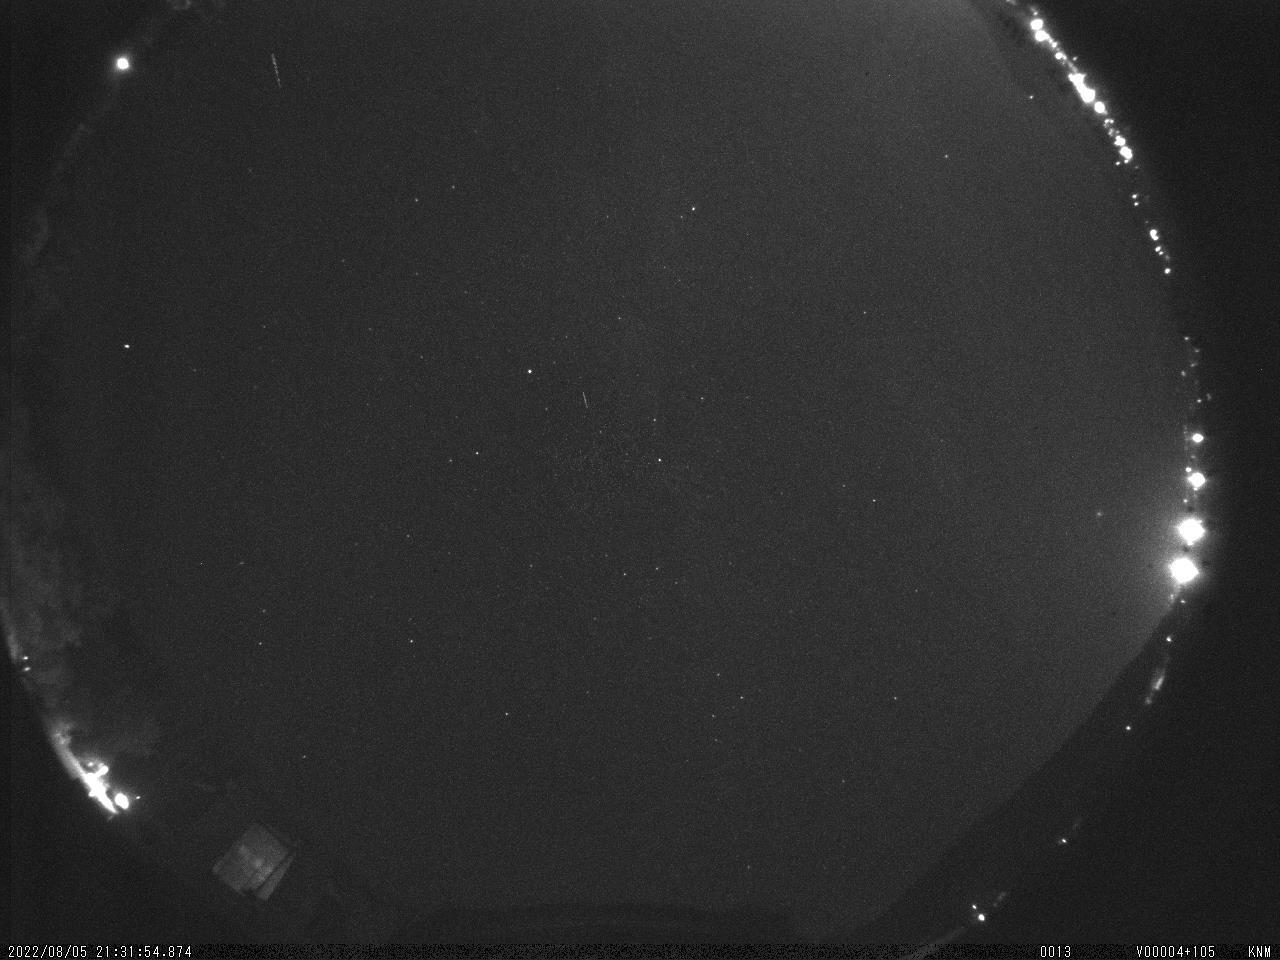Meteor: (266, 45, 288, 96), (577, 385, 593, 417)
